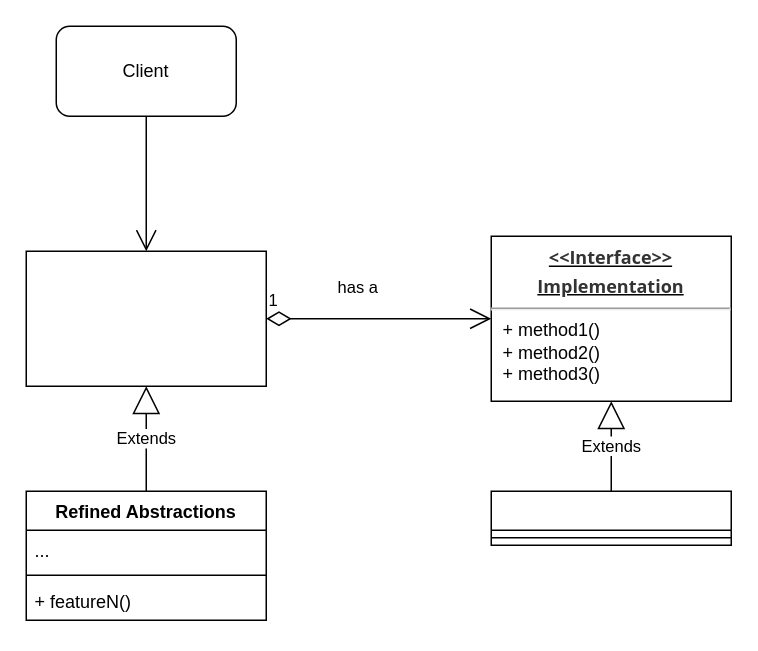
Image size: 758x651. Some labels were removed from this diagram. Each missing label, with the centre of its shape:
"Abstraction + i : implementation + feature1() + feature2()" goes at point 145,318.
"Concrete Implementations" goes at point 610,517.
